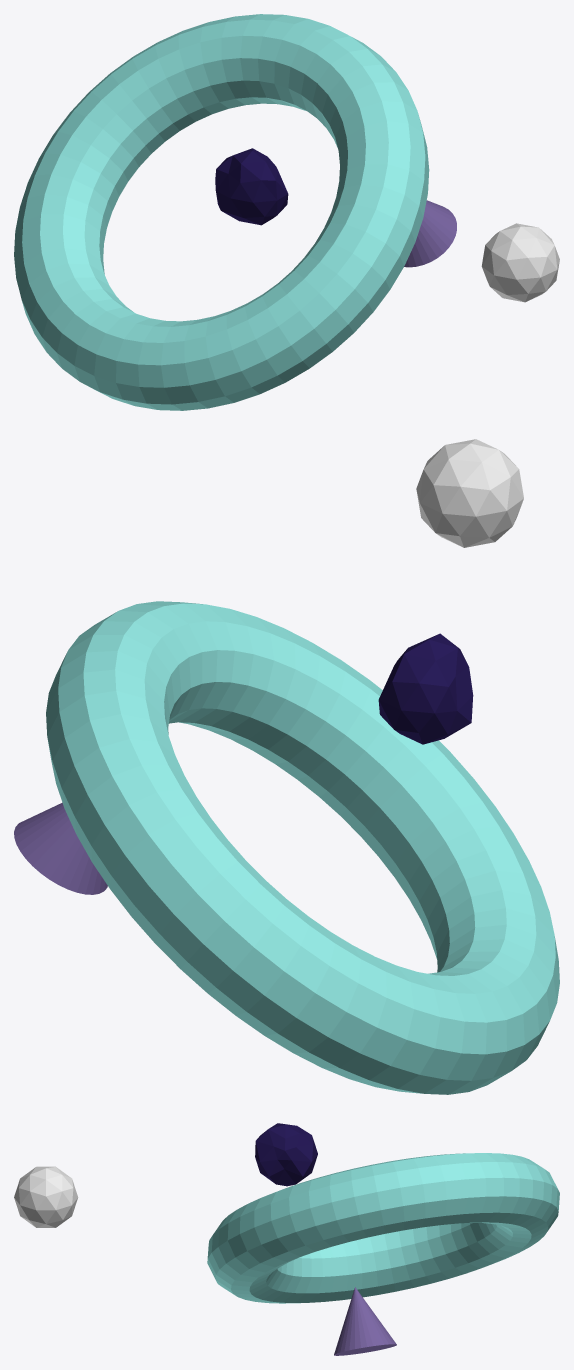
Rendered from littleTest.gltf.
3 views of the same model, one above another, from view 1: azimuth 30°, elevation 25°; view 2: azimuth 150°, elevation 25°; view 3: azimuth 270°, elevation 25° (orthographic). The views are drawn at different scales.
Parts seen in each view (by area): view 1: Torus, Icosphere, Icosphere.001, Cone; view 2: Torus, Icosphere, Icosphere.001, Cone; view 3: Torus, Icosphere, Icosphere.001, Cone.
Part boxes in pixels (x1,y1,x2,y2): Torus: [14, 14, 429, 410]; Icosphere: [481, 223, 559, 302]; Icosphere.001: [215, 148, 288, 225]; Cone: [404, 200, 456, 267]; Torus: [46, 601, 559, 1094]; Icosphere: [416, 439, 523, 547]; Icosphere.001: [378, 633, 473, 744]; Cone: [14, 802, 107, 894]; Torus: [207, 1153, 559, 1303]; Icosphere: [14, 1166, 78, 1227]; Icosphere.001: [255, 1123, 317, 1186]; Cone: [334, 1287, 396, 1355].
Bounding box in the file's own units: 10.98 × 7.78 × 17.
